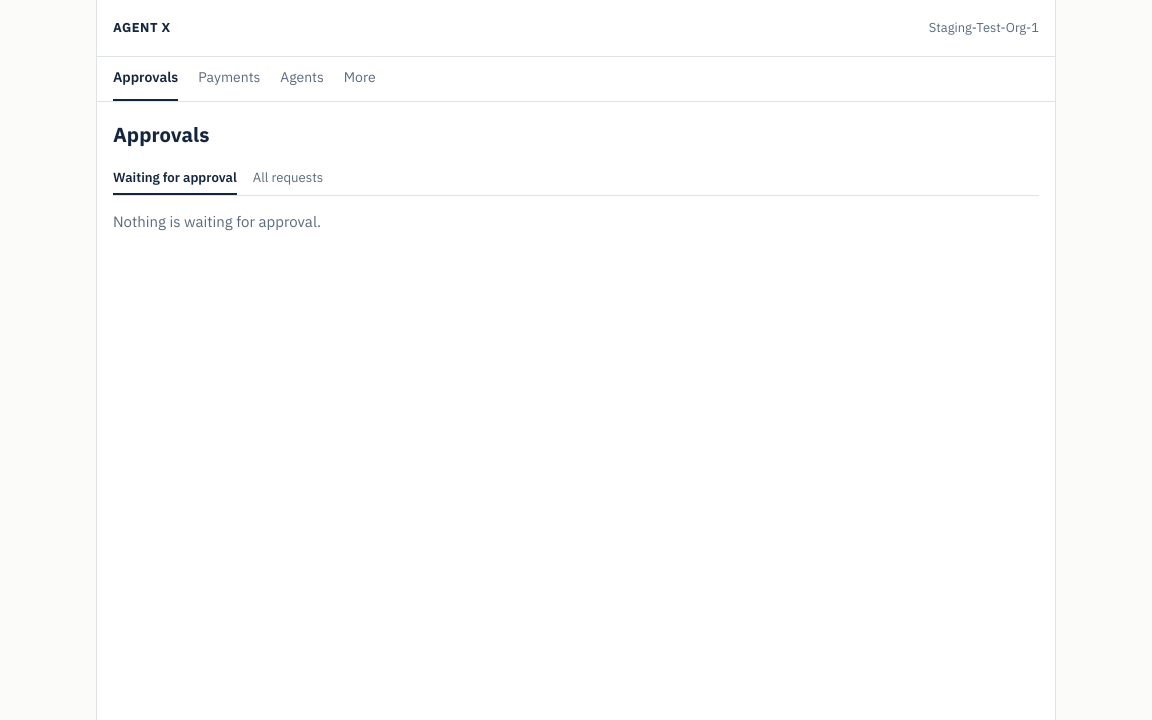
it: the approvals lists (6B1) › says when nothing waits, and lists all requests with their status on the other tab
The image size is (1152, 720).
expect the text "Nothing is waiting for approval." is shown: met, box [113,212,321,231]
Click the link "All requests": (288, 177) [253,168,323,186]
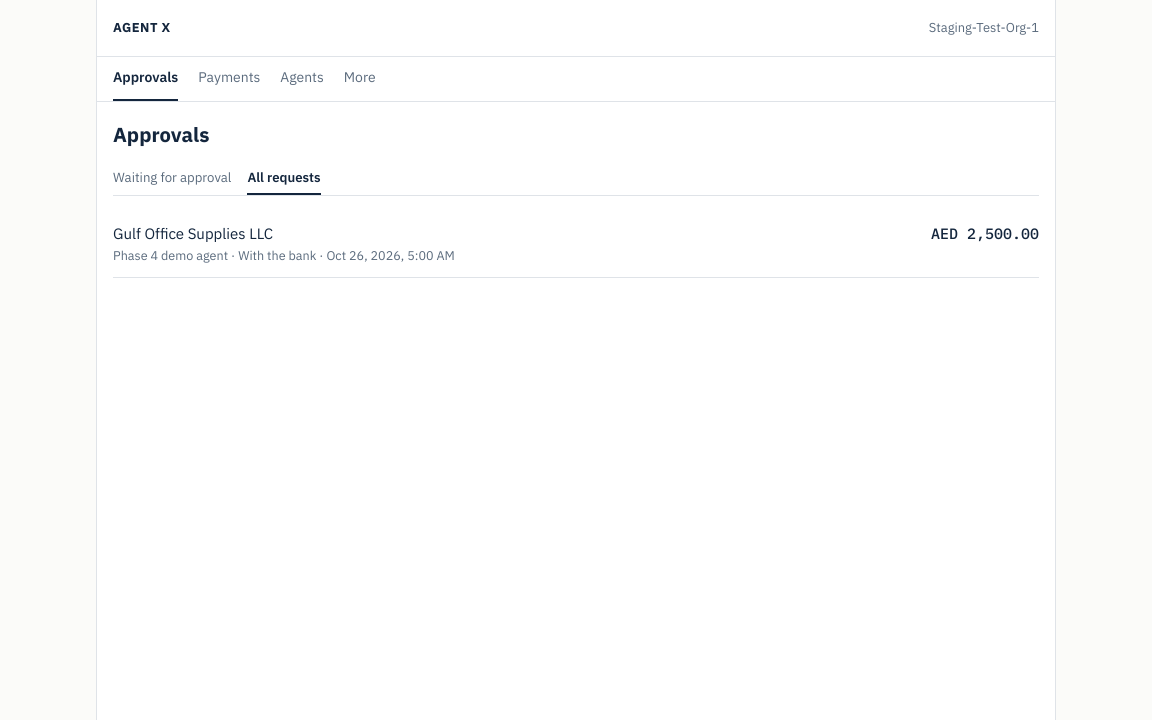
expect the text "Phase 4 demo agent · With the bank · Oct 26, 2026, 5:00 AM" is shown: met, box [113,246,455,265]
